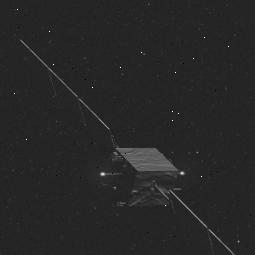smart_1: (41, 56, 200, 234)
